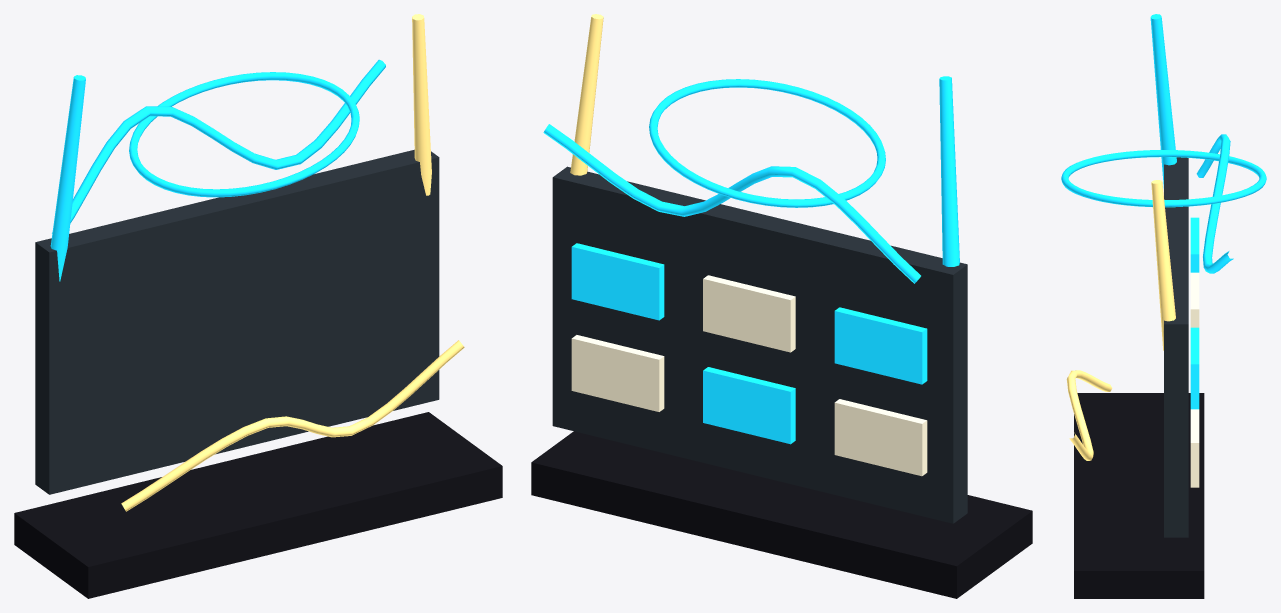
Rendered from telemetry-screen-array.glb.
3 views of the same model, side by side, from view 1: azimuth 30°, elevation 25°; view 2: azimuth 150°, elevation 25°; view 3: azimuth 270°, elevation 25° (orthographic). The views are drawn at different scales.
Visible parts, largest first — view 1: screen-array-wall, screen-array-base, small-radar-loop, trace-ribbon-main, trace-ribbon-alert, antenna-left, antenna-right; view 2: screen-array-wall, screen-array-base, metric-screen-1-2, metric-screen-0-0, metric-screen-1-0, metric-screen-0-2, metric-screen-0-1, metric-screen-1-1, small-radar-loop, trace-ribbon-main, antenna-left, antenna-right; view 3: screen-array-base, screen-array-wall, small-radar-loop, antenna-left, antenna-right, trace-ribbon-main, trace-ribbon-alert, metric-screen-1-2, metric-screen-0-2, metric-screen-1-0, metric-screen-1-1.
Part boxes in pixels (x1,y1,x2,y2): screen-array-wall: (35,149,439,494); screen-array-base: (14,412,502,598); small-radar-loop: (129,72,359,197); trace-ribbon-main: (52,59,385,233); trace-ribbon-alert: (121,340,464,511); antenna-left: (50,75,85,281); antenna-right: (412,14,431,195); screen-array-wall: (552,166,967,523); screen-array-base: (531,431,1032,598); metric-screen-1-2: (571,243,664,320); metric-screen-0-0: (834,399,927,476); metric-screen-1-0: (834,307,927,384); metric-screen-0-2: (571,335,664,411); metric-screen-0-1: (703,367,795,444); metric-screen-1-1: (703,275,795,352); small-radar-loop: (649,79,885,207); trace-ribbon-main: (543,124,920,283); antenna-left: (939,76,959,266); antenna-right: (570,14,603,175); screen-array-base: (1074,393,1204,598); screen-array-wall: (1164,157,1188,537); small-radar-loop: (1061,150,1266,207); antenna-left: (1150,14,1176,188); antenna-right: (1151,180,1175,350); trace-ribbon-main: (1196,134,1233,273); trace-ribbon-alert: (1066,370,1112,460); metric-screen-1-2: (1190,327,1199,409); metric-screen-0-2: (1190,409,1199,487); metric-screen-1-0: (1190,217,1199,272); metric-screen-1-1: (1190,272,1199,327).
Bounding box in the file's own units: 1.36 × 1.5 × 0.664.
